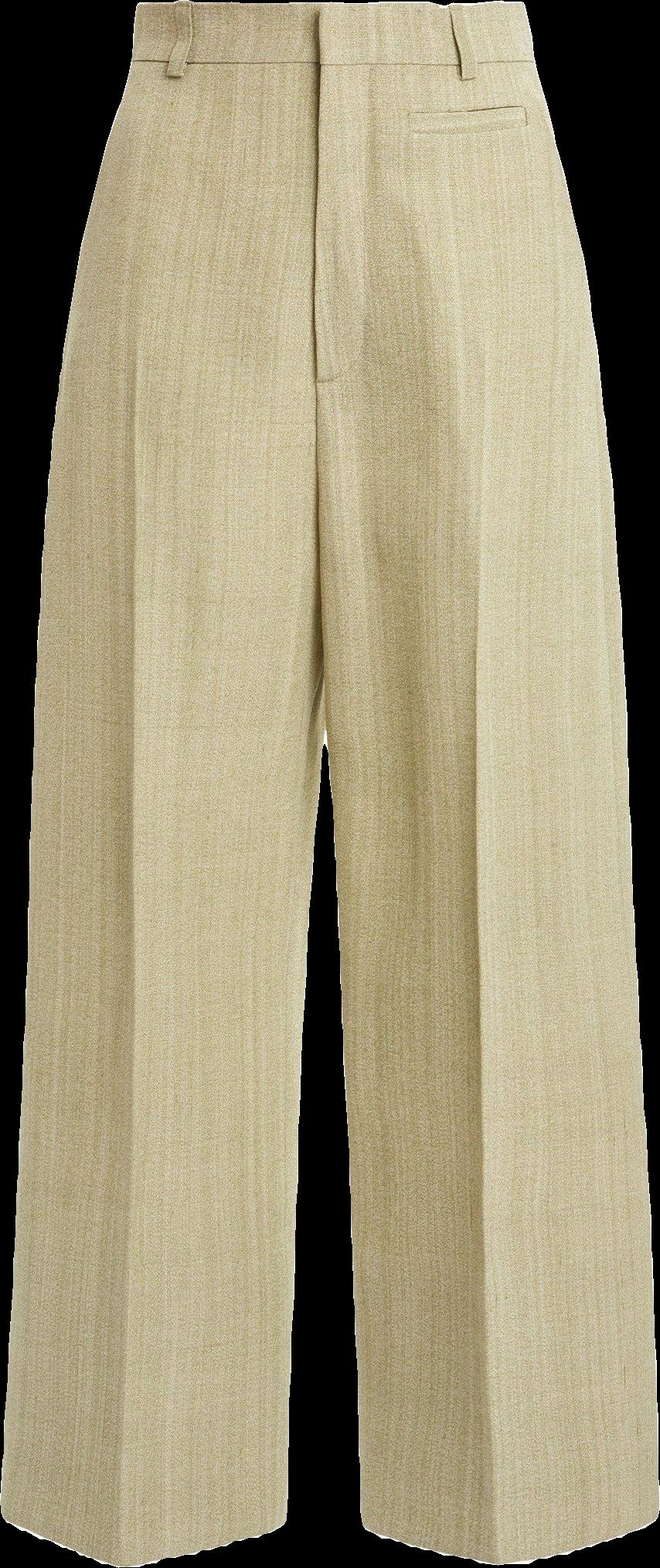Hemline: (0, 1499, 296, 1566), (355, 1502, 659, 1566)
Pantleg: (309, 0, 658, 1563), (0, 0, 324, 1563)
Waistline: (124, 45, 539, 78), (135, 0, 526, 20)
